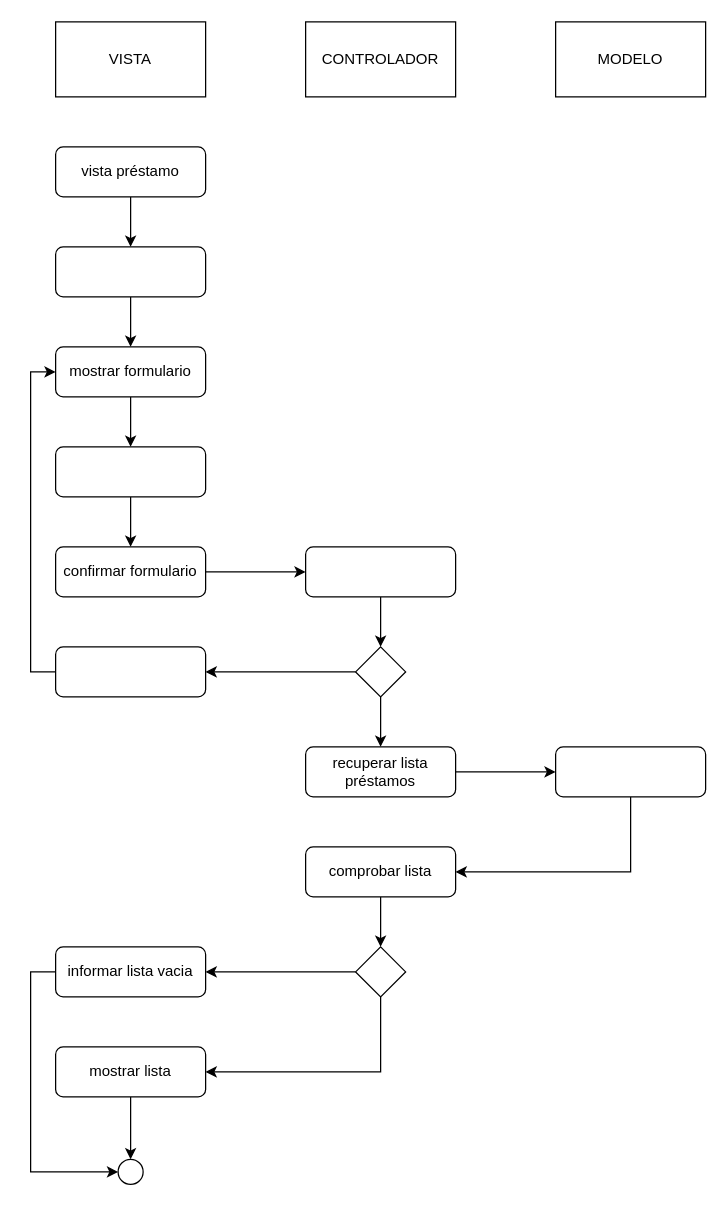
The diagram is 728 pixels wide and 1206 high, and some of its shapes have lost their labels. The shapes that lost their labels are listed below. From the top down, each one's box as (x1, y1, x2, y2) in pixels, then its label:
(54, 246, 206, 297): listar préstamo por id
(54, 446, 206, 497): completar formulario
(304, 546, 456, 597): validar datos
(54, 646, 206, 697): informar error
(554, 746, 706, 797): recuperar préstamos que coincidan
